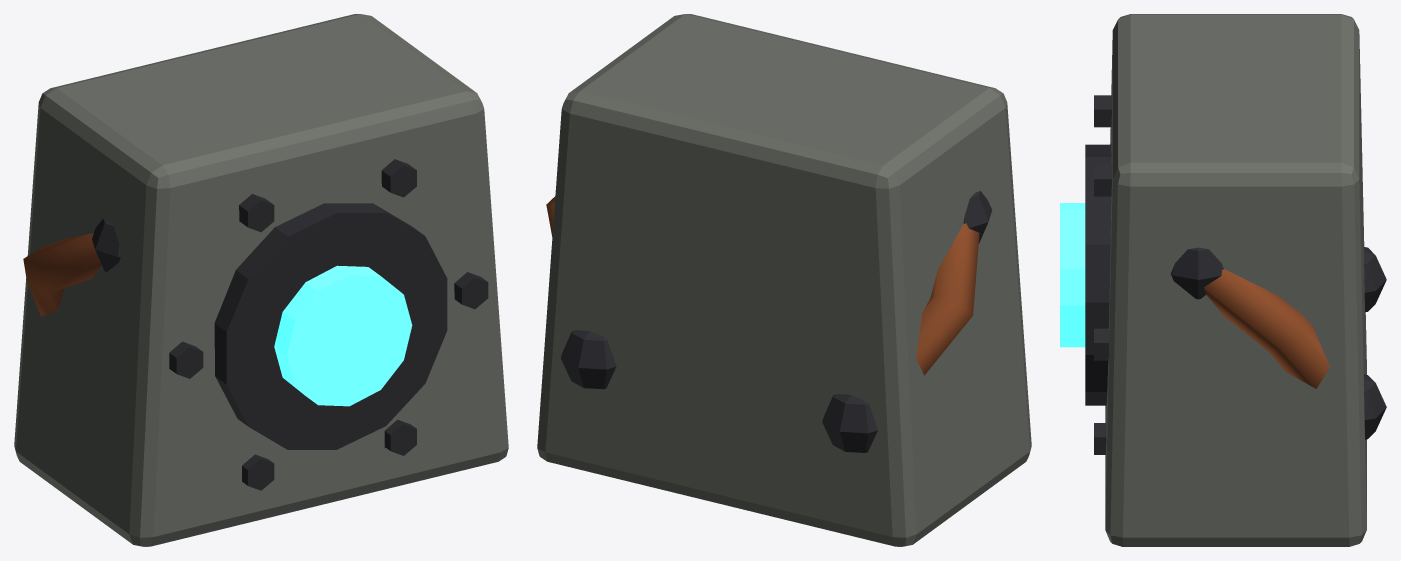
File: co_arc.glb
The picture shows the model from 3 angles, left to right: view 1: azimuth 30°, elevation 25°; view 2: azimuth 150°, elevation 25°; view 3: azimuth 270°, elevation 25°; orthographic projection.
Visible parts, largest first — view 1: co_arc; view 2: co_arc; view 3: co_arc.
Boxes of the visible parts, x1,y1,x2,y2 form: co_arc: [14, 14, 508, 546]; co_arc: [537, 14, 1031, 546]; co_arc: [1060, 14, 1386, 546].
Bounding box in the file's own units: 0.167 × 0.1407 × 0.1118.
